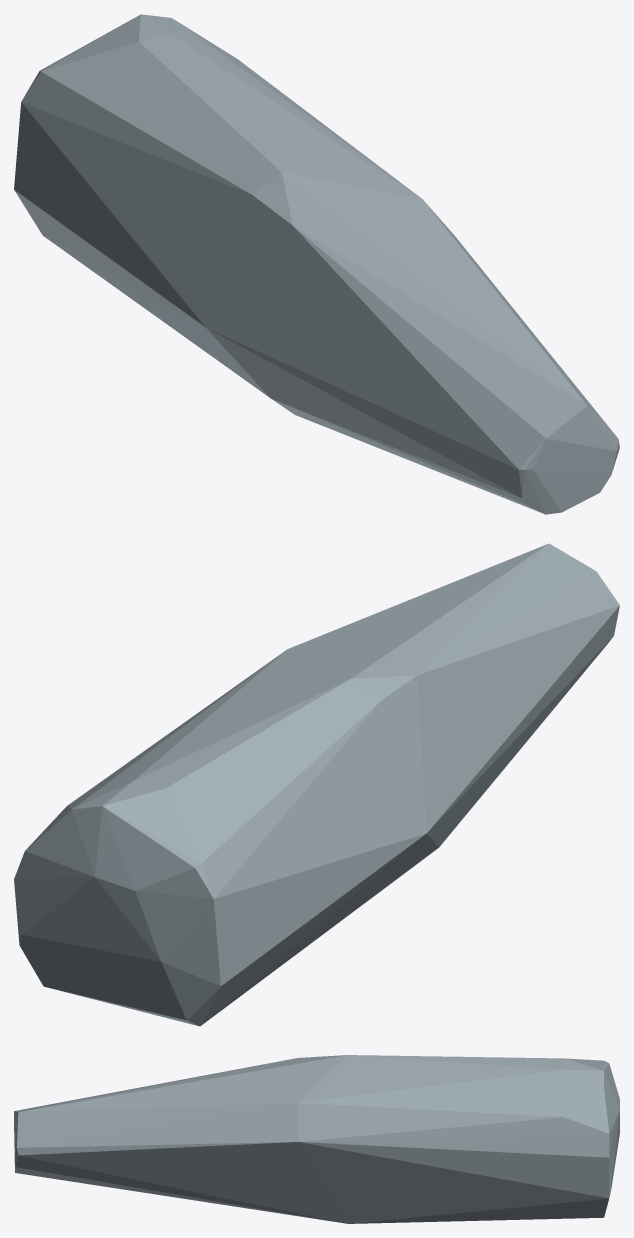
The model's file is food_beverage_beerBottle_c01.glb.
The picture shows the model from 3 angles, top to bottom: view 1: azimuth 30°, elevation 25°; view 2: azimuth 150°, elevation 25°; view 3: azimuth 270°, elevation 25°; orthographic projection. The views are drawn at different scales.
Parts seen in each view (by area): view 1: geometry_0; view 2: geometry_0; view 3: geometry_0.
Boxes of the visible parts, bbox=[...] form: geometry_0: bbox=[14, 14, 619, 514]; geometry_0: bbox=[14, 543, 619, 1026]; geometry_0: bbox=[14, 1055, 619, 1223].
Size of the model in its own units: 0.1288 by 0.1262 by 0.48.
